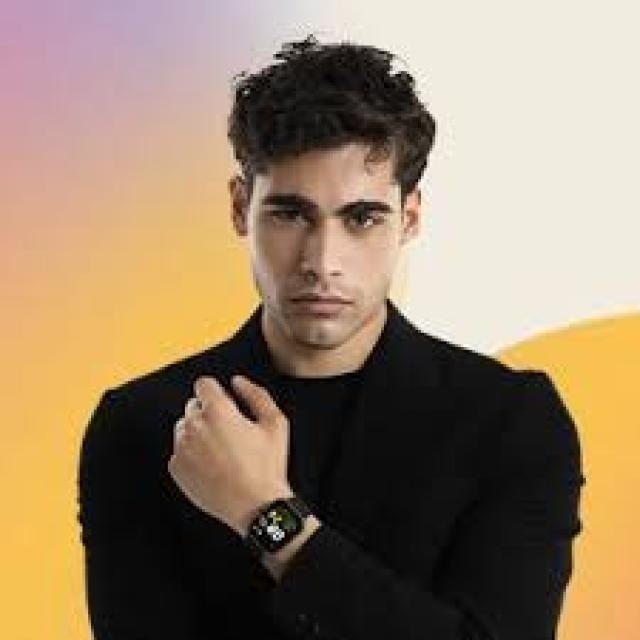objects: (245, 495, 319, 569)
